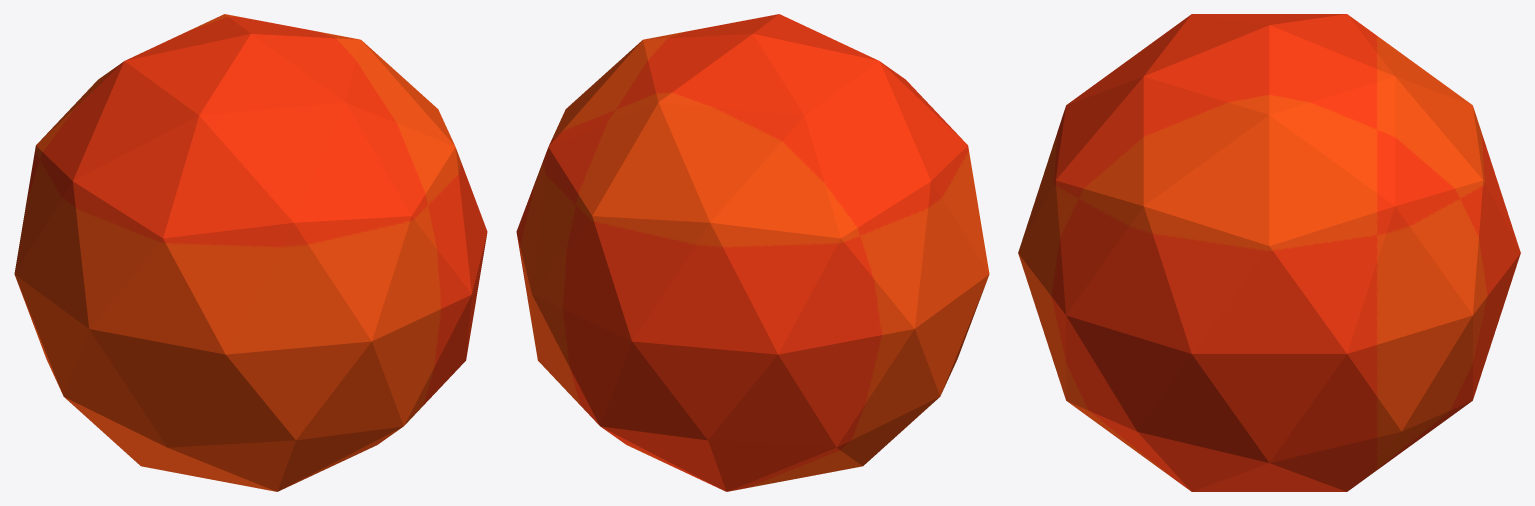
File: mars.glb
The picture shows the model from 3 angles, left to right: view 1: azimuth 30°, elevation 25°; view 2: azimuth 150°, elevation 25°; view 3: azimuth 270°, elevation 25°; orthographic projection. The views are drawn at different scales.
Visible parts, largest first — view 1: Icosphere.002; view 2: Icosphere.002; view 3: Icosphere.002.
Part boxes in pixels (left/top/right/bottom): Icosphere.002: left=14, top=14, right=487, bottom=491; Icosphere.002: left=516, top=14, right=989, bottom=491; Icosphere.002: left=1018, top=14, right=1520, bottom=491.
Size of the model in its own units: 17.12 by 18 by 18.
1 material, 1 textured.
